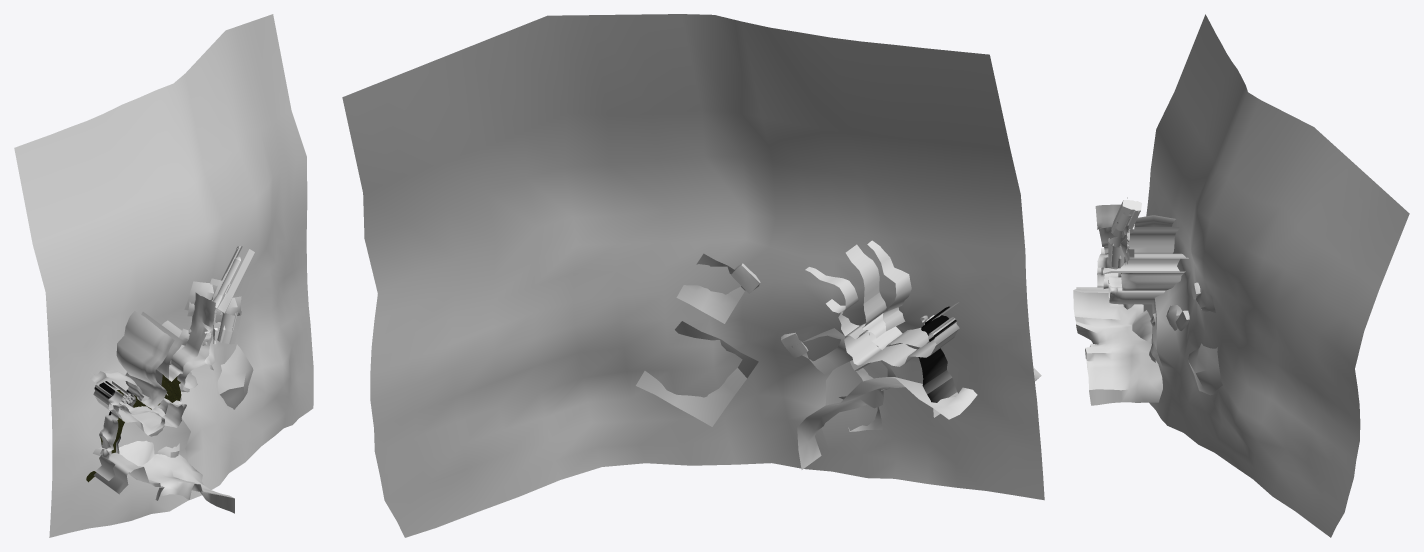
3 views of the same model, side by side, from view 1: azimuth 30°, elevation 25°; view 2: azimuth 150°, elevation 25°; view 3: azimuth 270°, elevation 25° (orthographic). The views are drawn at different scales.
Visible parts, largest first — view 1: Rock Bottom, Cliff North High, Cliff East 2 High, Cliff East 1 High, Cliff West 2 High, Debris.030, Cube.005, Cliff West 1 High, Ground 1 High, Cube.007, Debris.002; view 2: Rock Bottom, Debris.030, Cliff North High, Cliff West 2 High, Ground 1 High.001, Cliff East 2 High, Debris.031, Cliff East 1 High; view 3: Rock Bottom, Cliff North High, Debris.030, Cliff East 1 High, Cliff West 1 High, Ground 1 High.001, Cliff West 2 High, Cube.005, Cliff East 2 High.
Boxes of the visible parts, <box> form: Rock Bottom: <box>14,14,313,537</box>; Cliff North High: <box>91,373,234,513</box>; Cliff East 2 High: <box>90,311,174,409</box>; Cliff East 1 High: <box>141,292,215,381</box>; Cliff West 2 High: <box>93,384,186,435</box>; Debris.030: <box>149,344,253,457</box>; Cube.005: <box>212,246,254,313</box>; Cliff West 1 High: <box>162,320,217,388</box>; Ground 1 High: <box>86,374,181,482</box>; Cube.007: <box>217,313,241,344</box>; Debris.002: <box>184,281,217,310</box>; Rock Bottom: <box>342,14,1044,537</box>; Debris.030: <box>636,253,895,431</box>; Cliff North High: <box>797,302,1041,469</box>; Cliff West 2 High: <box>844,317,959,366</box>; Ground 1 High.001: <box>838,311,957,417</box>; Cliff East 2 High: <box>867,240,911,331</box>; Debris.031: <box>731,263,871,370</box>; Cliff East 1 High: <box>845,244,879,303</box>; Rock Bottom: <box>1143,14,1409,537</box>; Cliff North High: <box>1073,248,1162,405</box>; Debris.030: <box>1149,289,1222,395</box>; Cliff East 1 High: <box>1095,204,1179,254</box>; Cliff West 1 High: <box>1097,249,1188,274</box>; Ground 1 High.001: <box>1121,273,1183,309</box>; Cliff West 2 High: <box>1103,273,1165,304</box>; Cube.005: <box>1111,200,1141,237</box>; Cliff East 2 High: <box>1134,215,1175,226</box>.
Bounding box in the file's own units: 1317 × 1339 × 1109.
